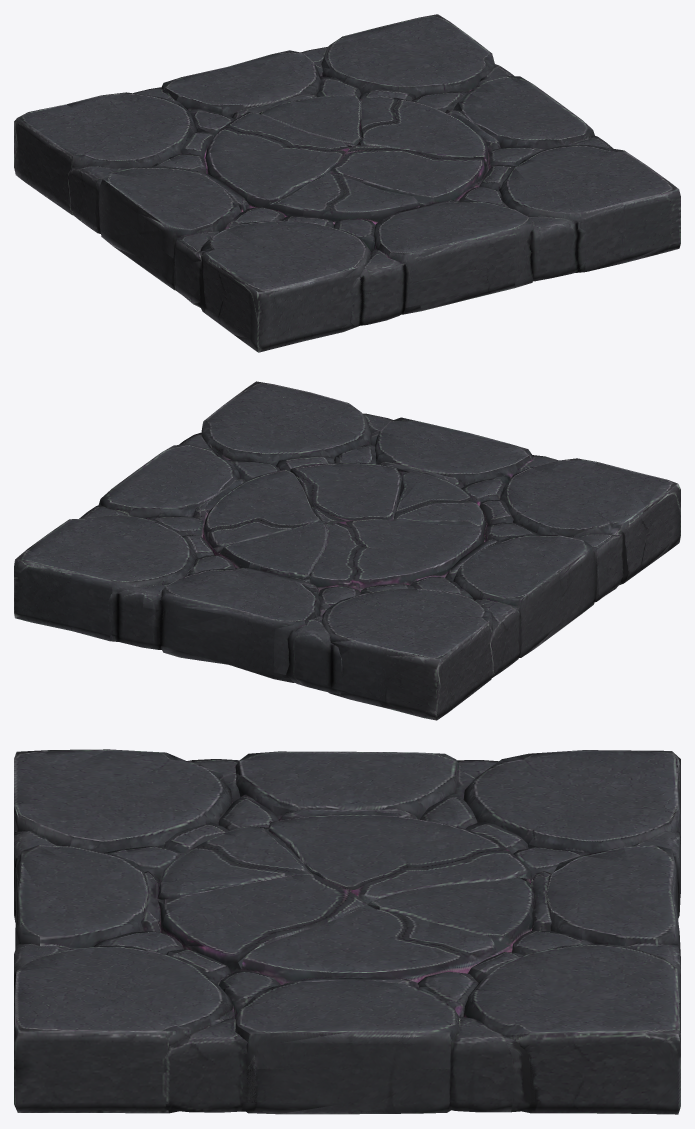
Rendered from void_armed.glb.
3 renders of one model, top to bottom at view 1: azimuth 30°, elevation 25°; view 2: azimuth 150°, elevation 25°; view 3: azimuth 270°, elevation 25°, orthographic. The views are drawn at different scales.
Size of the model in its own units: 1 by 0.1406 by 1.
Materials: 1 (1 with a texture image).
